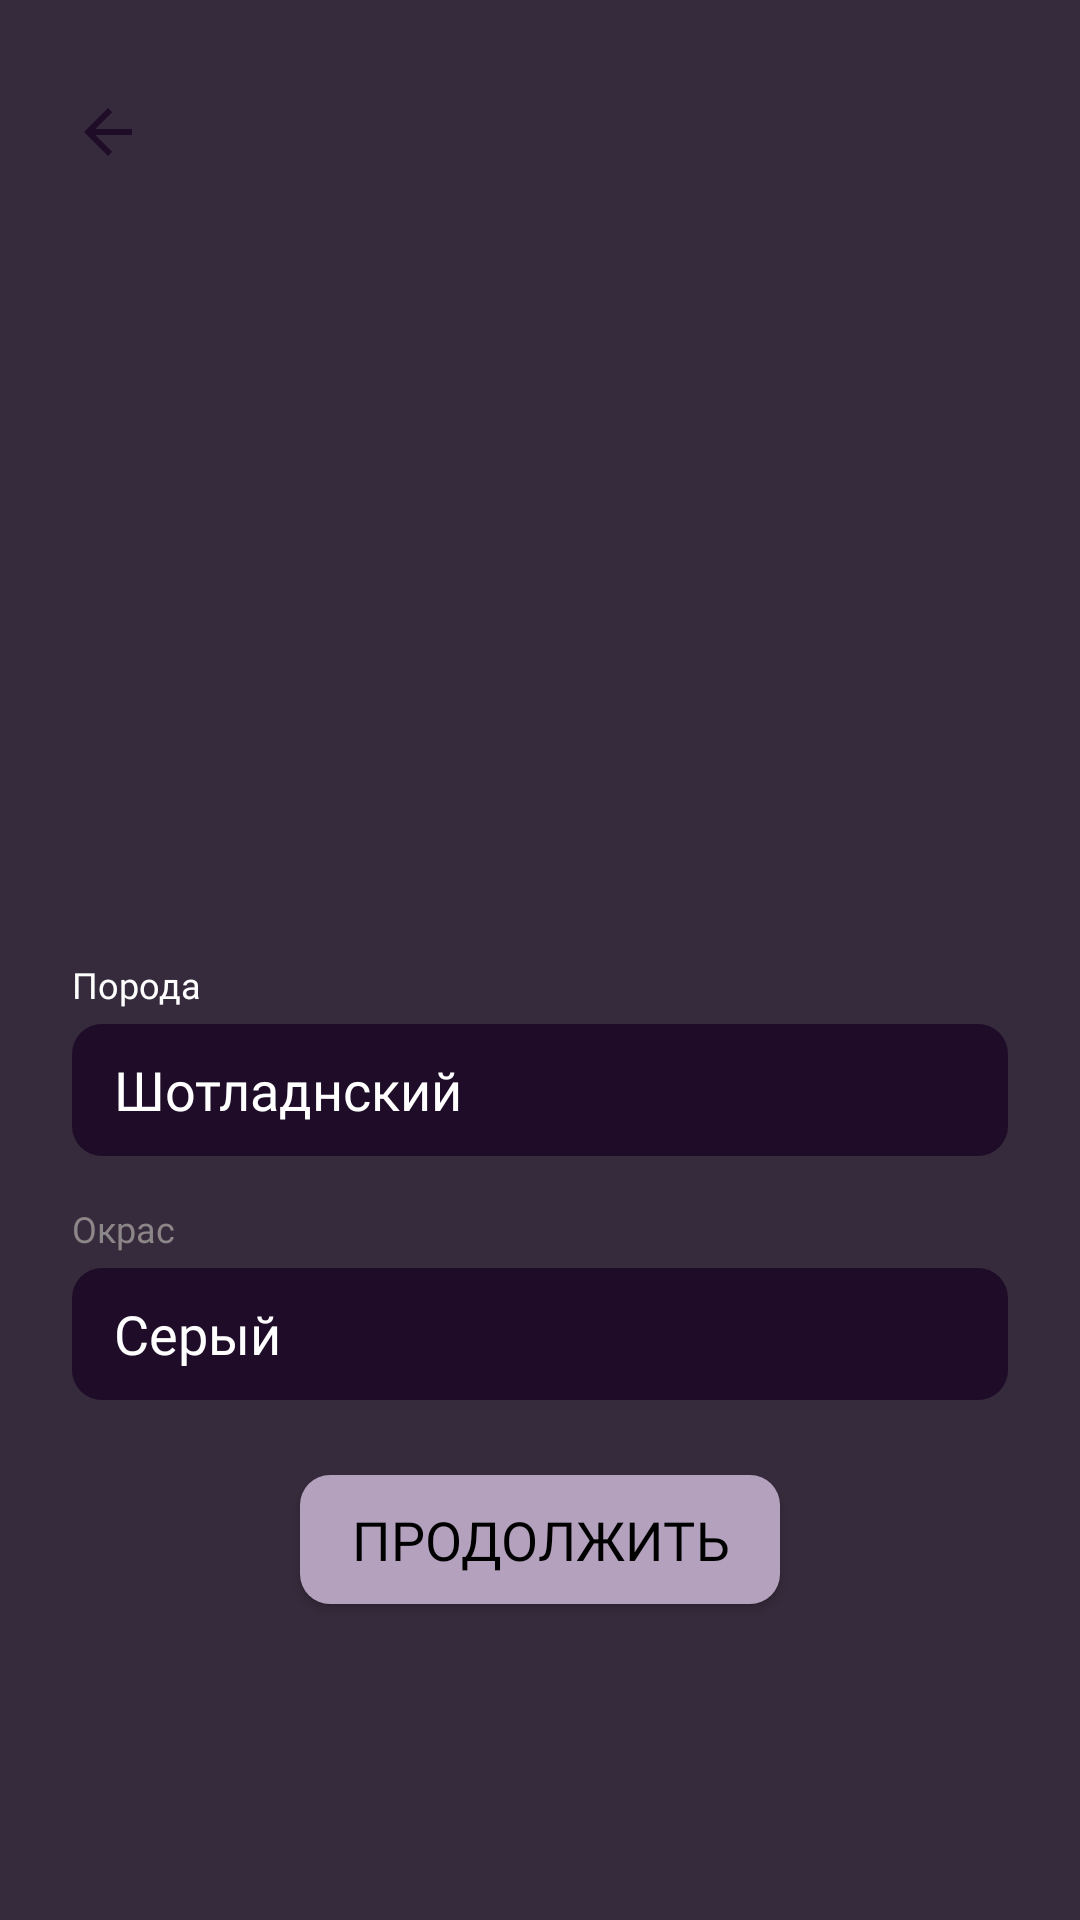

Named icons in this screenshot (1080 × 1920) and their bounding boxes, (x1, y1, x2, y2):
arrow back: (85, 109, 132, 155)
